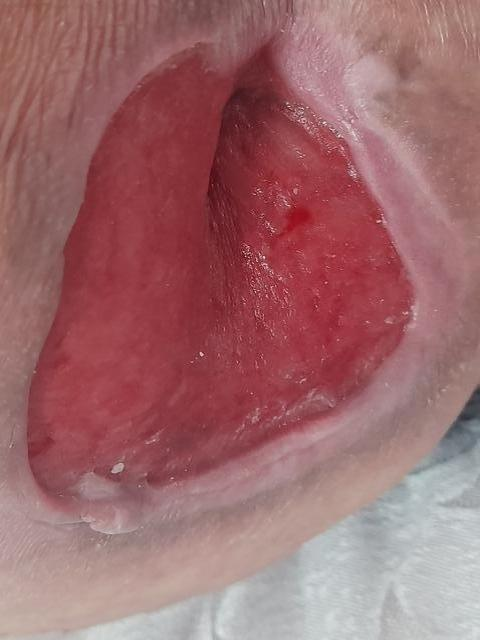wound: (28, 39, 413, 513)
